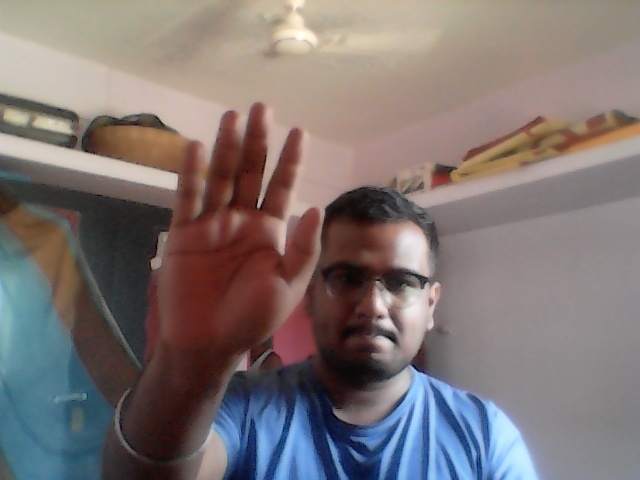Hello: (155, 95, 324, 358)
